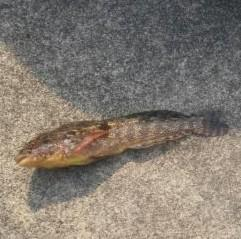fish: (16, 106, 228, 168)
